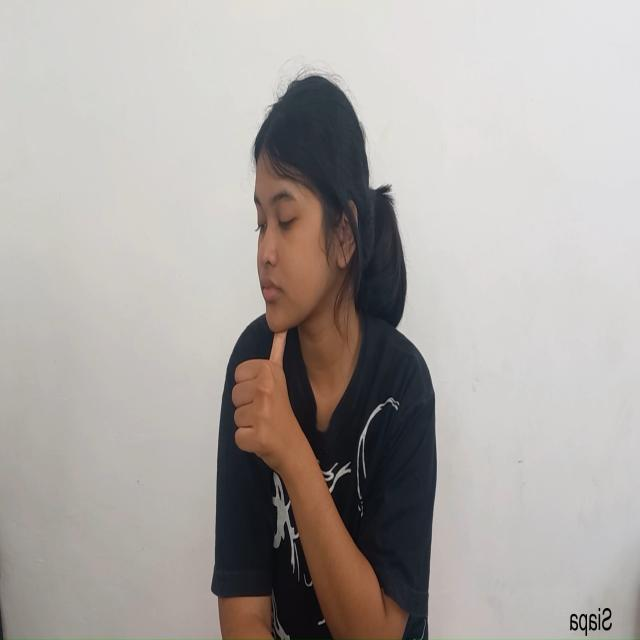Siapa -BISINDO-: (233, 70, 405, 459)
